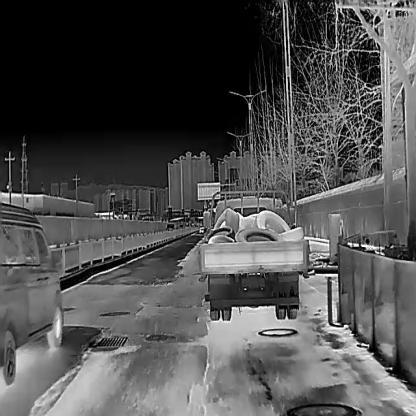car: (199, 189, 309, 320), (0, 200, 64, 384)
